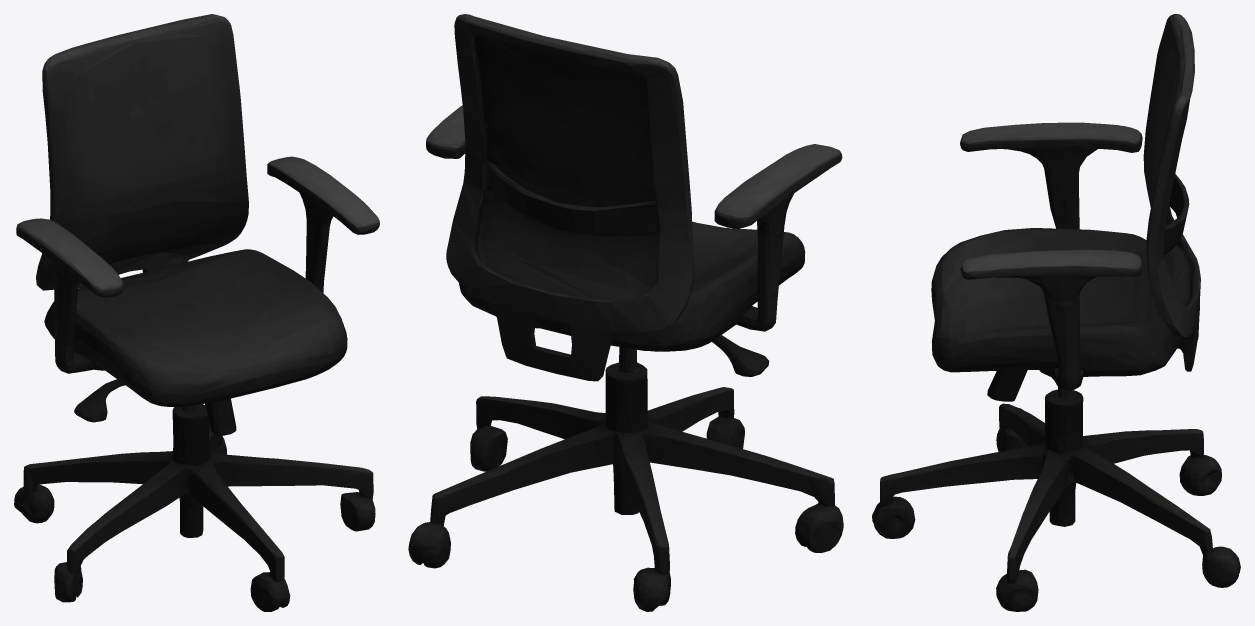
Rendered from desk_chair.glb.
3 views of the same model, side by side, from view 1: azimuth 30°, elevation 25°; view 2: azimuth 150°, elevation 25°; view 3: azimuth 270°, elevation 25° (orthographic). The views are drawn at different scales.
Visible parts, largest first — view 1: geometry_0; view 2: geometry_0; view 3: geometry_0.
Boxes of the visible parts, bbox=[...] form: geometry_0: bbox=[14, 14, 379, 611]; geometry_0: bbox=[408, 14, 843, 611]; geometry_0: bbox=[872, 14, 1240, 611].
Bounding box in the file's own units: 0.7089 × 1 × 0.6964.
1 material, 1 textured.
